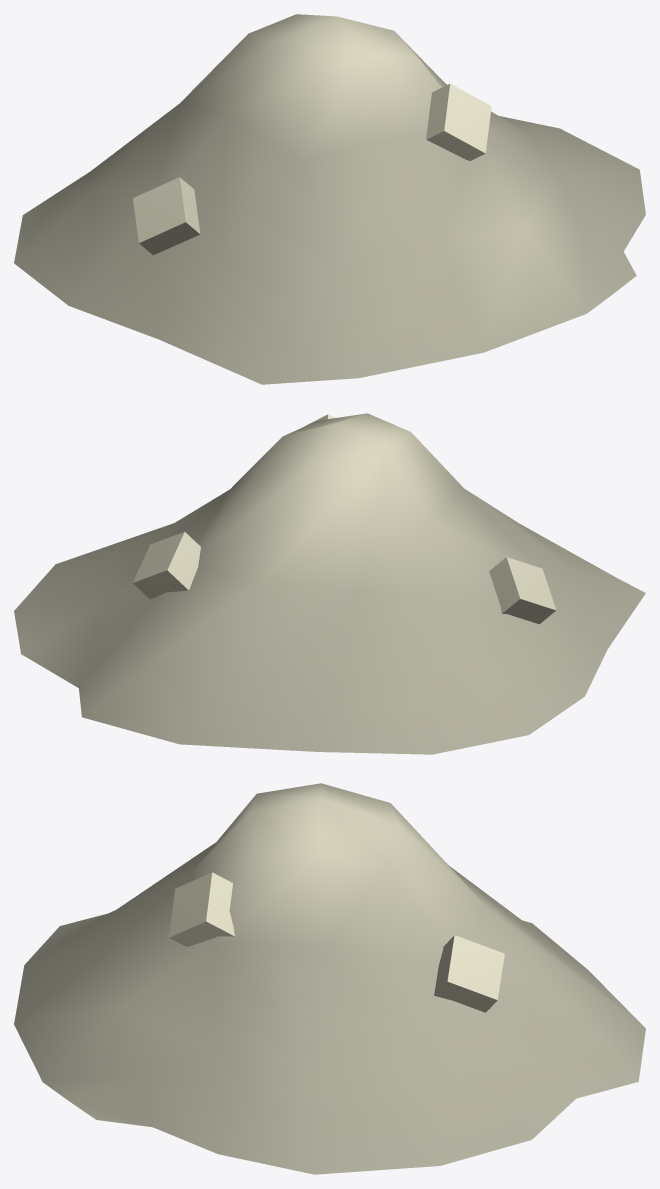
File: ing_Sugar.fbx
3 views of the same model, one above another, from view 1: azimuth 30°, elevation 25°; view 2: azimuth 150°, elevation 25°; view 3: azimuth 270°, elevation 25° (orthographic). The views are drawn at different scales.
Parts seen in each view (by area): view 1: ing_Sugar; view 2: ing_Sugar; view 3: ing_Sugar.
Boxes of the visible parts, x1=… form: ing_Sugar: x1=14, y1=14, x2=645, y2=384; ing_Sugar: x1=14, y1=413, x2=645, y2=754; ing_Sugar: x1=14, y1=783, x2=645, y2=1174.
Bounding box in the file's own units: 69.01 × 26.09 × 65.74.
